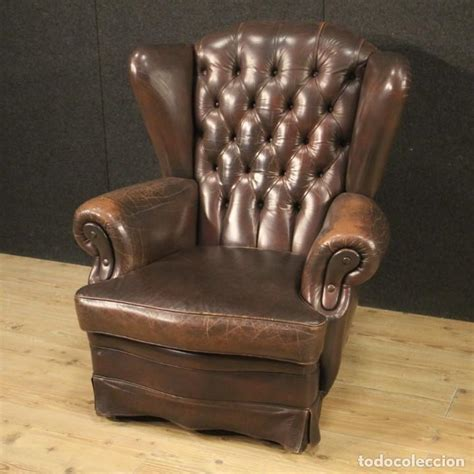cuero: (73, 21, 411, 452)
